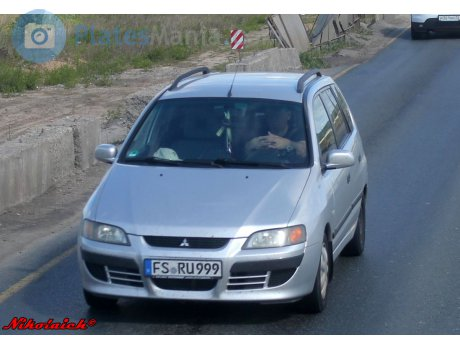License Plates: (152, 258, 220, 271)
